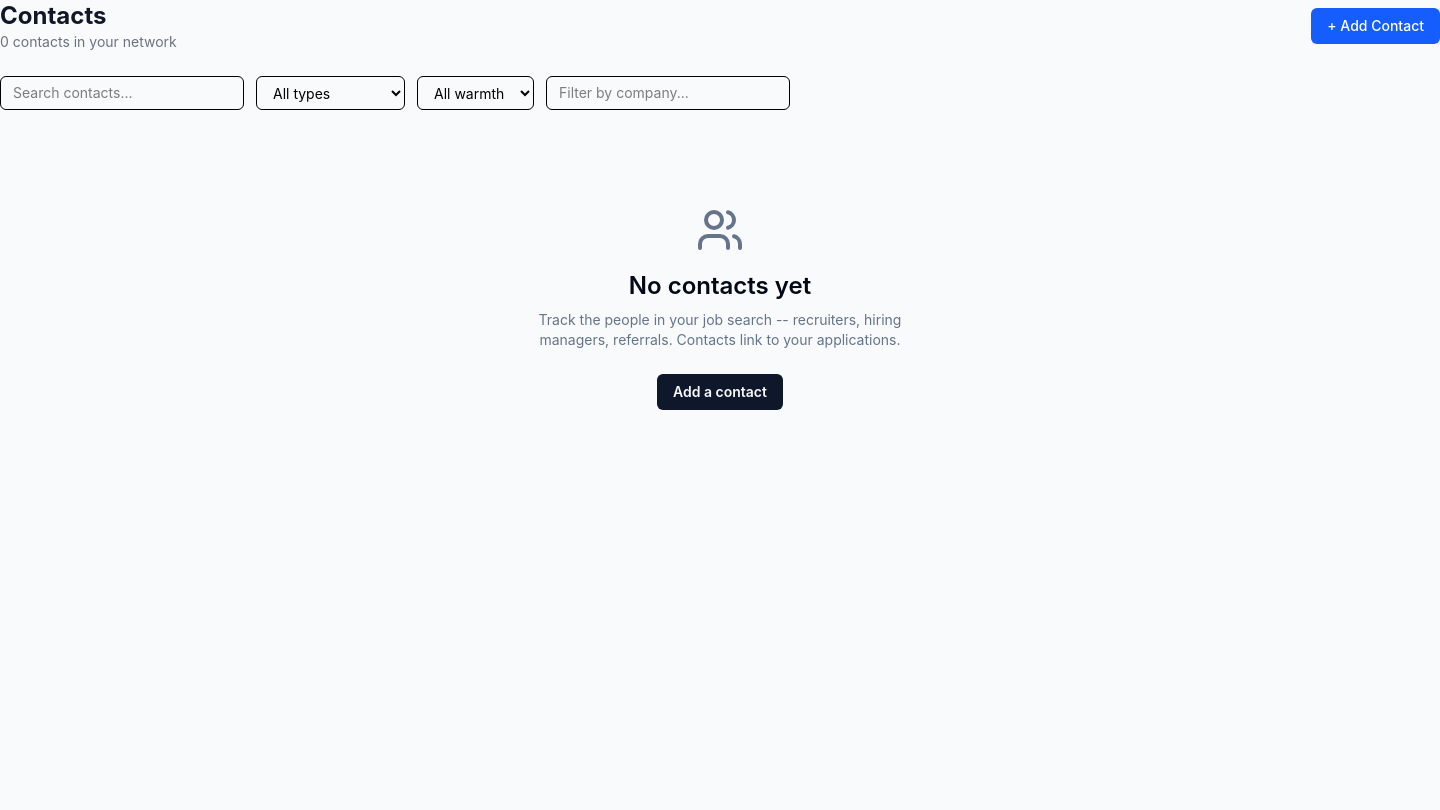
Scenario: ContactsPage › shows add contact dialog with form fields
Step 1. Click the button with test id "add-contact-btn" → (1376,26), box [1311,8,1439,44]
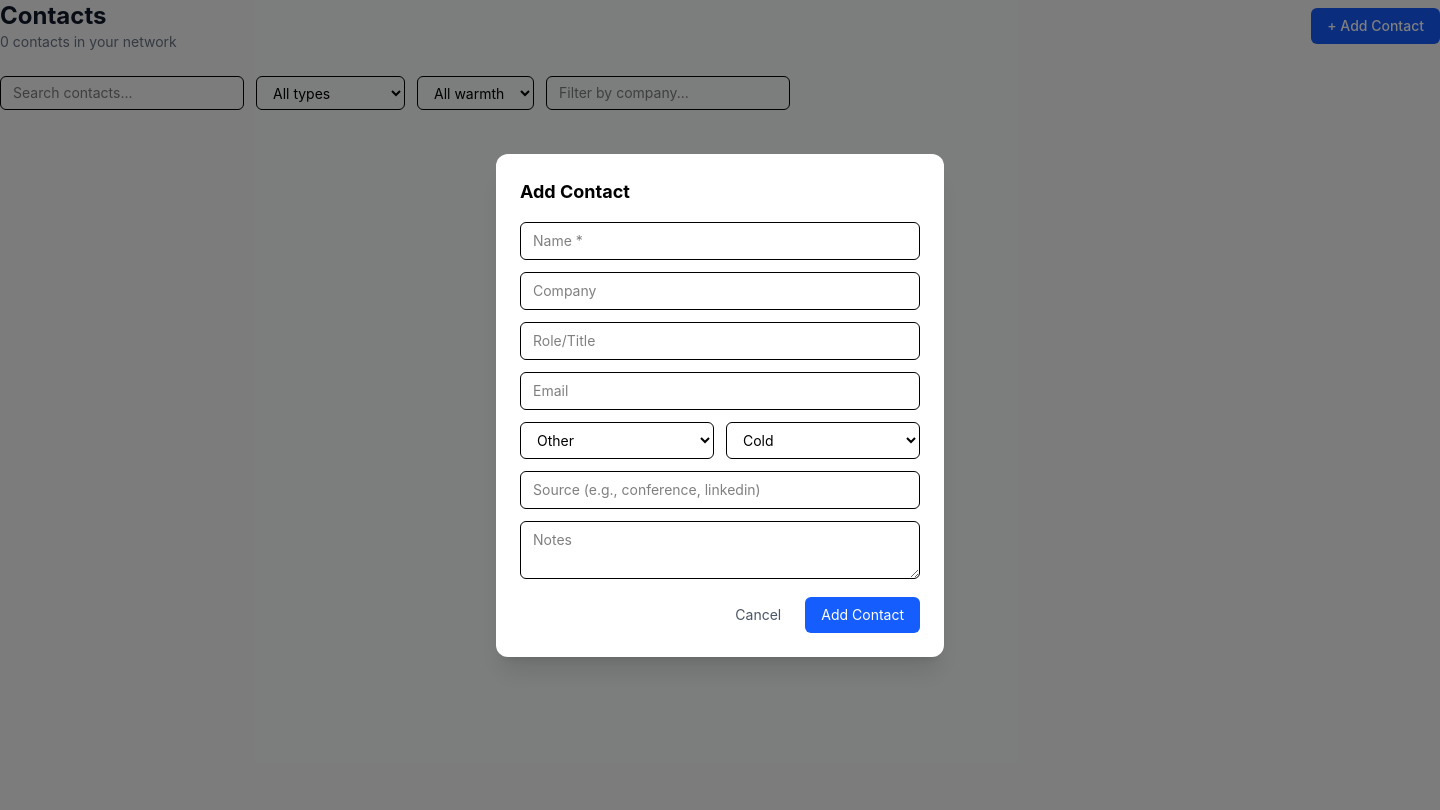
Expected: the element with test id "add-contact-dialog" is shown
Expected: the field with test id "contact-name-input" is shown, [520,222,920,260]
Expected: the dropdown with test id "contact-type-select" is shown, [520,422,714,458]
